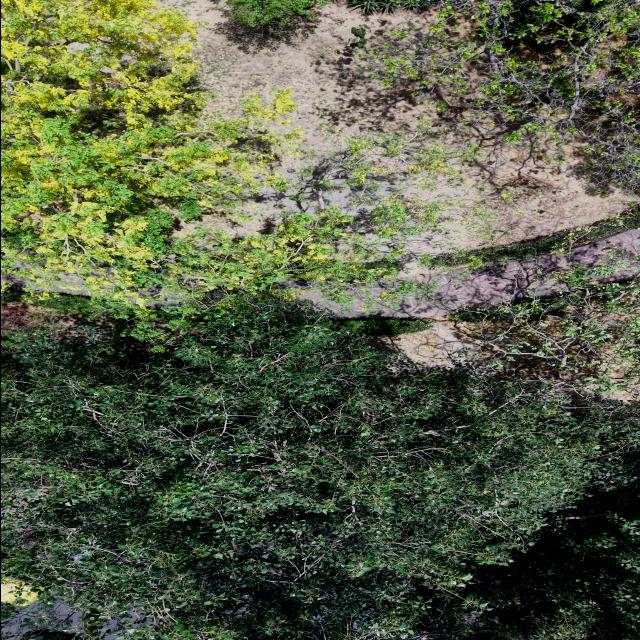DRY_AREA: (306, 229, 639, 387), (162, 0, 438, 176), (204, 146, 638, 255), (300, 229, 639, 368), (301, 229, 639, 368), (164, 0, 436, 172), (166, 0, 436, 173), (165, 0, 435, 173), (372, 230, 639, 387), (163, 0, 424, 155), (300, 229, 639, 319), (299, 229, 639, 318), (300, 229, 639, 318), (408, 144, 639, 253), (371, 318, 586, 394), (371, 319, 585, 394), (1, 303, 149, 355), (1, 303, 131, 342), (372, 320, 475, 369), (1, 303, 89, 333)
PATHWAYS: (300, 229, 639, 318), (300, 229, 639, 317)
VEGETATION_TREE: (1, 0, 639, 639), (1, 299, 639, 639), (1, 0, 475, 306), (1, 0, 369, 306), (1, 0, 270, 299), (372, 0, 639, 192), (449, 272, 639, 399), (421, 205, 639, 268), (229, 0, 325, 26), (348, 1, 432, 14)
